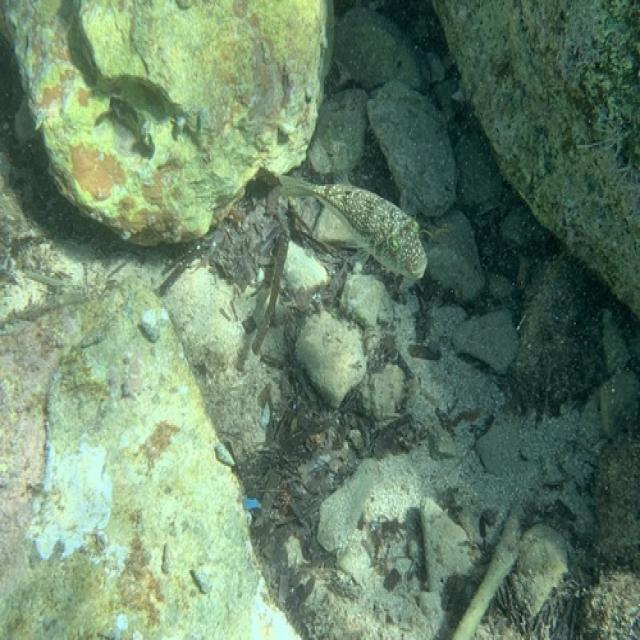Balik: (280, 176, 427, 278)
